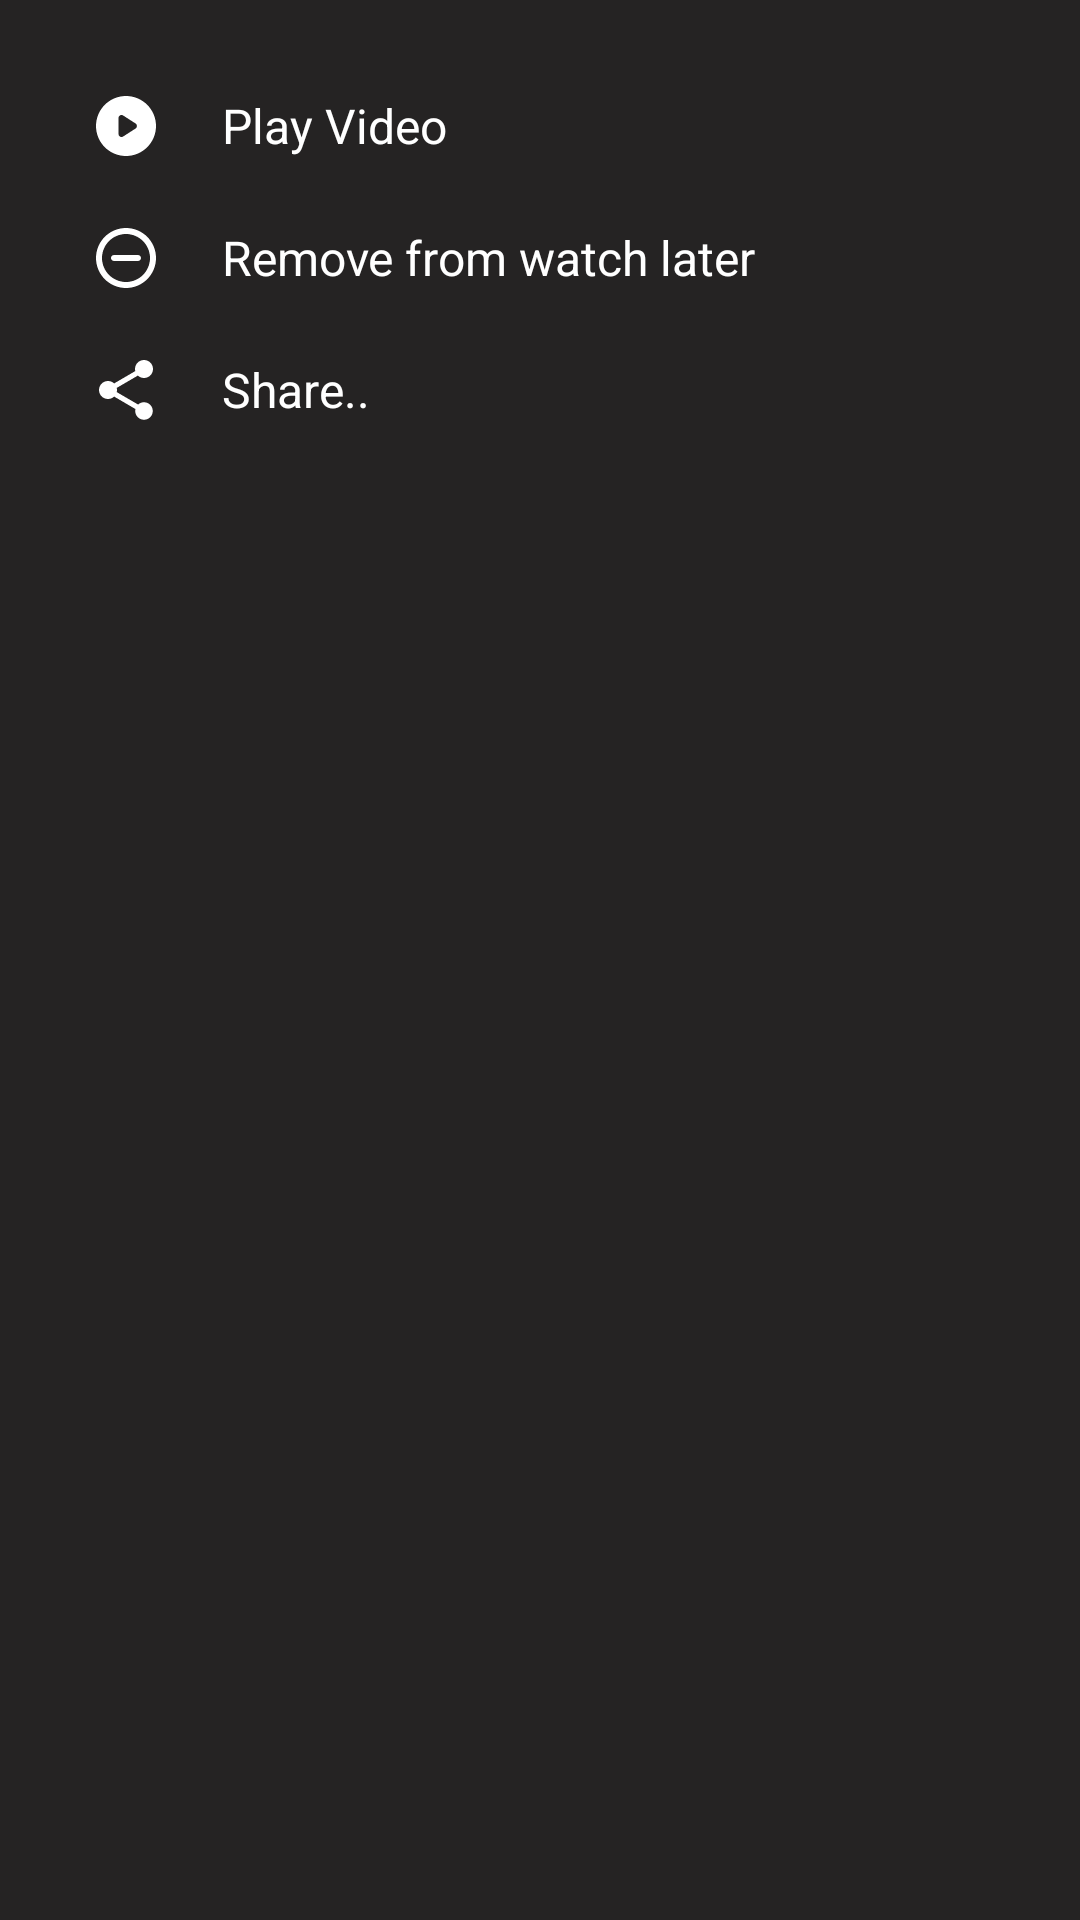

Screen size 1080 x 1920. Icon name, then its center in pixels as (x,y):
exo play: (126,126)
remove video: (126,258)
